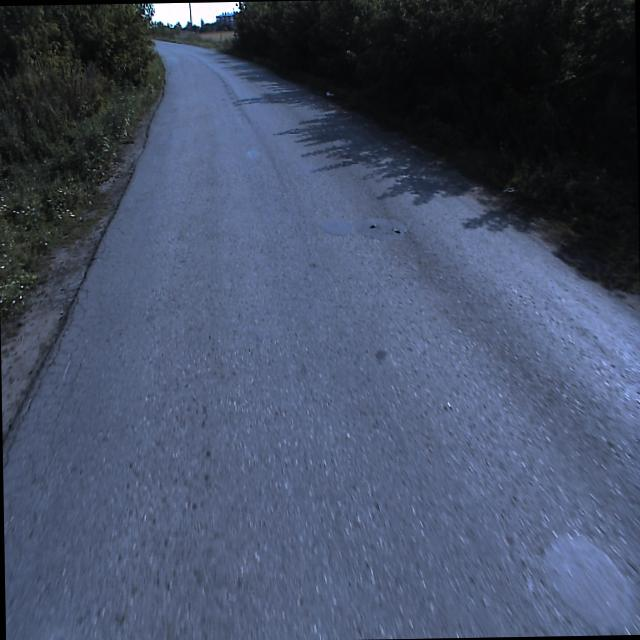road: (2, 39, 640, 640)
